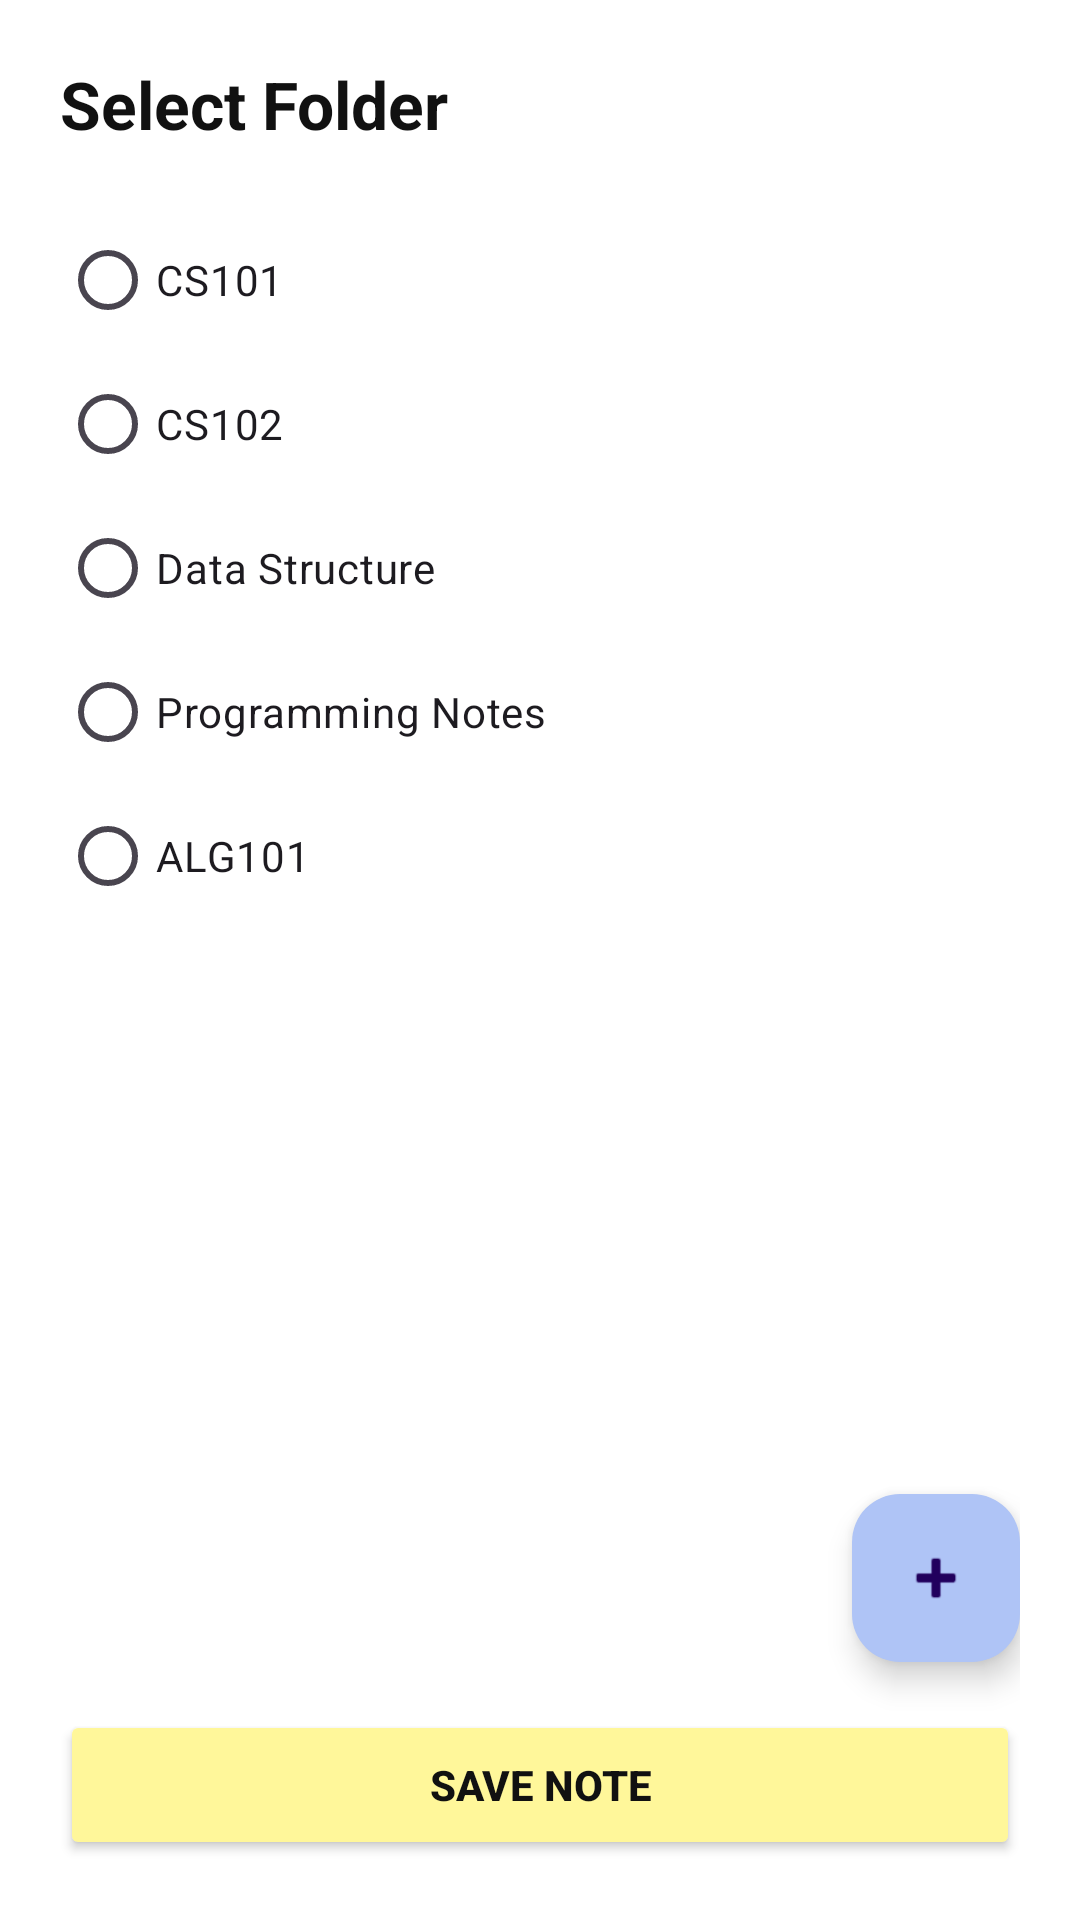

Icons on this 1080 x 1920 Android screen, each with its box as (x1, y1, x2, y2):
add: (852, 1494, 1020, 1662)
